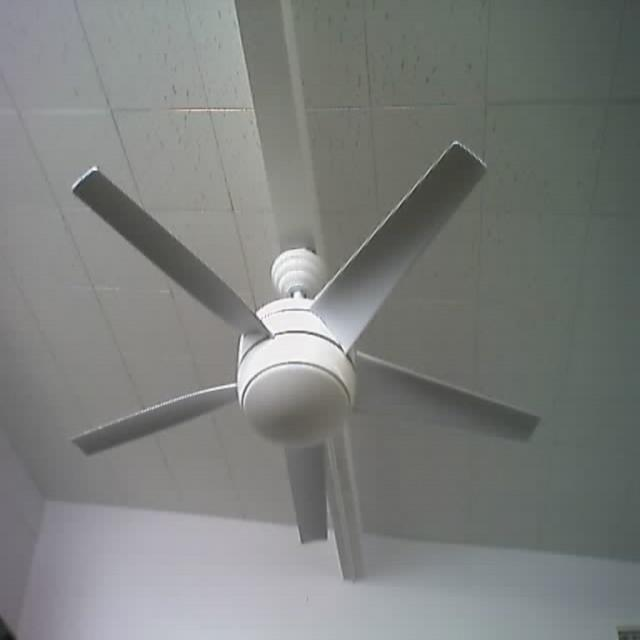fan_off: (75, 143, 539, 547)
